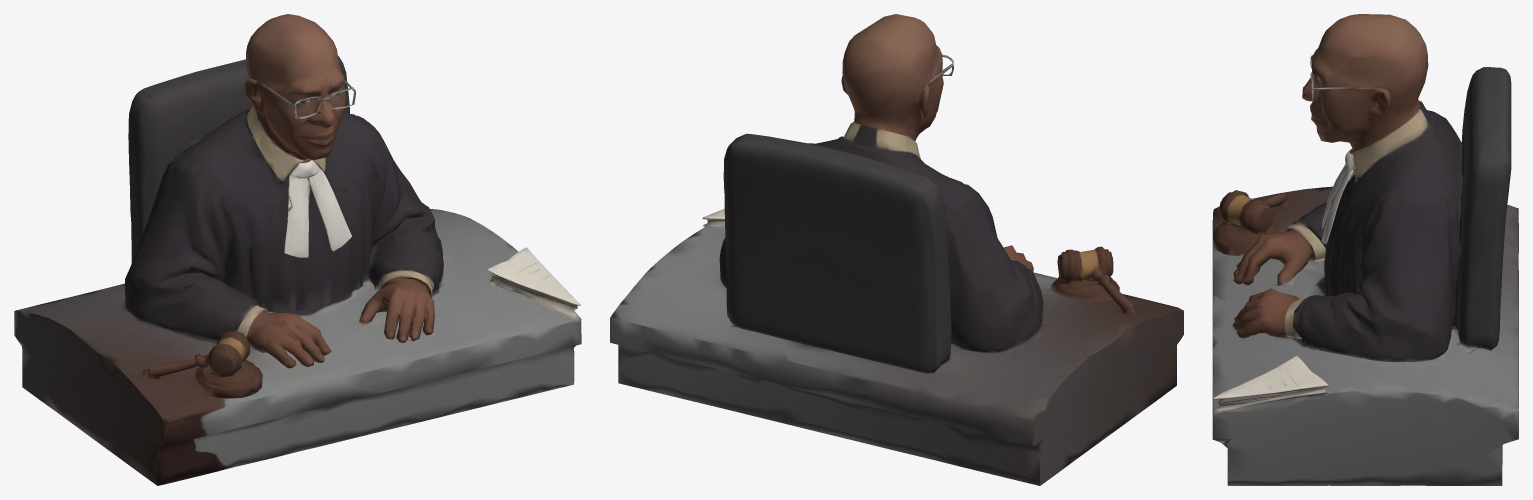
The model's file is judge_3.glb.
The picture shows the model from 3 angles, left to right: view 1: azimuth 30°, elevation 25°; view 2: azimuth 150°, elevation 25°; view 3: azimuth 270°, elevation 25°; orthographic projection.
Visible parts, largest first — view 1: tripo_node_1f5e4883-b25b-4391-9718-21c20b66043b; view 2: tripo_node_1f5e4883-b25b-4391-9718-21c20b66043b; view 3: tripo_node_1f5e4883-b25b-4391-9718-21c20b66043b.
Boxes of the visible parts, box(x1,y1,x2,y2) form: tripo_node_1f5e4883-b25b-4391-9718-21c20b66043b: box(14, 14, 581, 485); tripo_node_1f5e4883-b25b-4391-9718-21c20b66043b: box(610, 14, 1183, 485); tripo_node_1f5e4883-b25b-4391-9718-21c20b66043b: box(1212, 14, 1518, 485).
Size of the model in its own units: 1 by 0.8226 by 0.6252.
Materials: 1 (1 with a texture image).
